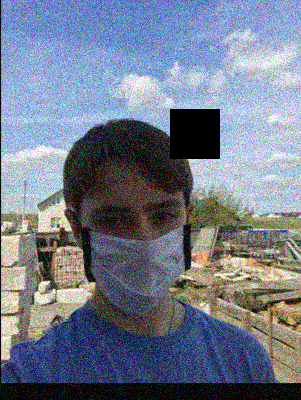with_mask: (79, 182, 192, 316)
